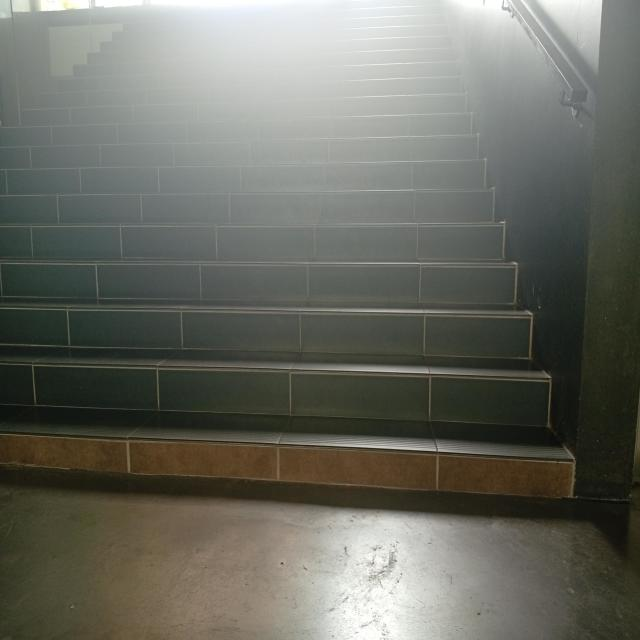Stairs: (32, 108, 592, 539)
